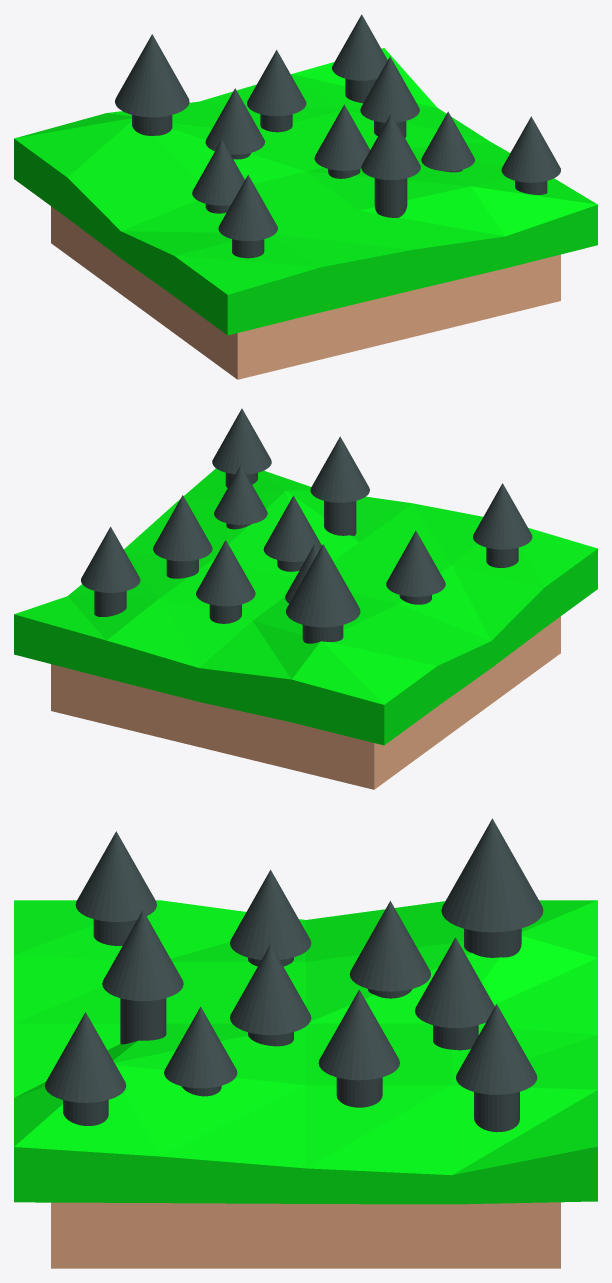
The model's file is platformakolce.fbx.
The picture shows the model from 3 angles, top to bottom: view 1: azimuth 30°, elevation 25°; view 2: azimuth 150°, elevation 25°; view 3: azimuth 270°, elevation 25°; orthographic projection. The views are drawn at different scales.
Parts seen in each view (by area): view 1: Cube; view 2: Cube; view 3: Cube.
Boxes of the visible parts, bbox=[...] form: Cube: bbox=[14, 14, 597, 379]; Cube: bbox=[14, 408, 597, 789]; Cube: bbox=[14, 818, 597, 1268].
Size of the model in its own units: 687 by 371 by 687.
